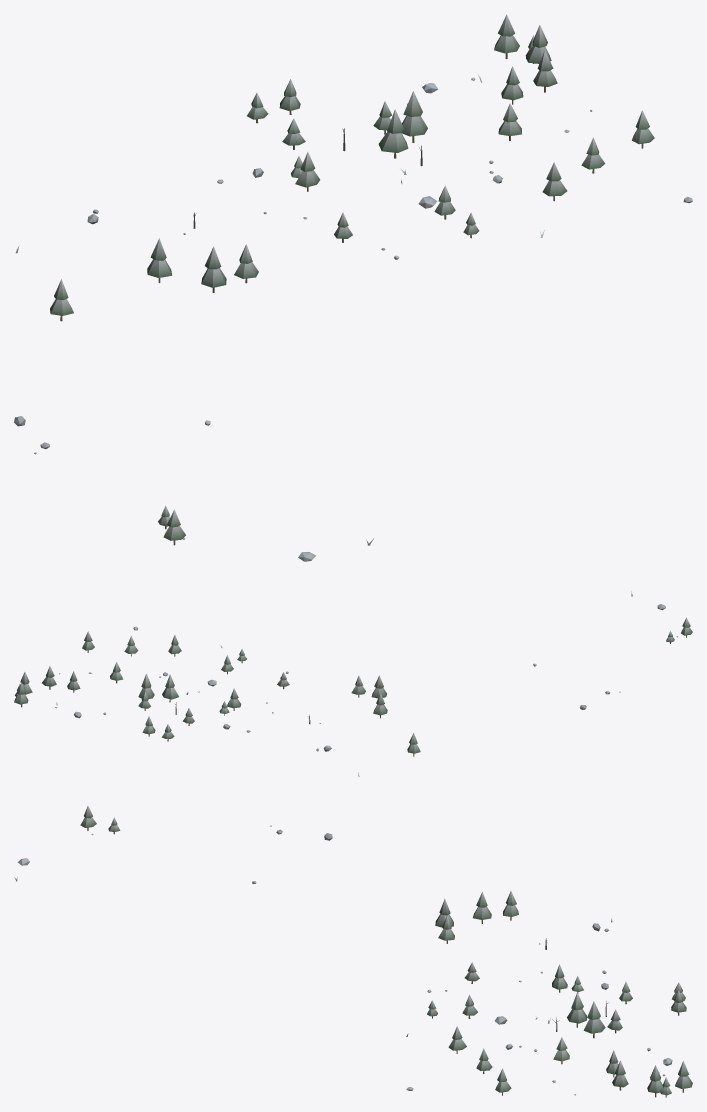
Rendered from frost_land_scatter_c13_10_lod1.glb.
3 views of the same model, one above another, from view 1: azimuth 30°, elevation 25°; view 2: azimuth 150°, elevation 25°; view 3: azimuth 270°, elevation 25° (orthographic). The views are drawn at different scales.
Parts seen in each view (by area): view 1: frost_land_scatter_c13_10_lod1; view 2: frost_land_scatter_c13_10_lod1; view 3: frost_land_scatter_c13_10_lod1.
Boxes of the visible parts, x1=… form: frost_land_scatter_c13_10_lod1: x1=14, y1=14, x2=692, y2=561; frost_land_scatter_c13_10_lod1: x1=14, y1=591, x2=692, y2=776; frost_land_scatter_c13_10_lod1: x1=14, y1=806, x2=692, y2=1097.
Bounding box in the file's own units: 244 × 26.15 × 255.
